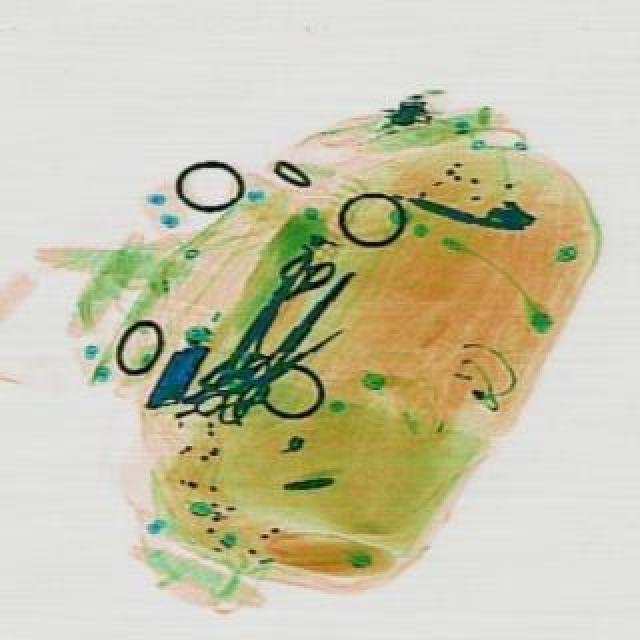pliers: (202, 248, 390, 452), (224, 238, 336, 362)
